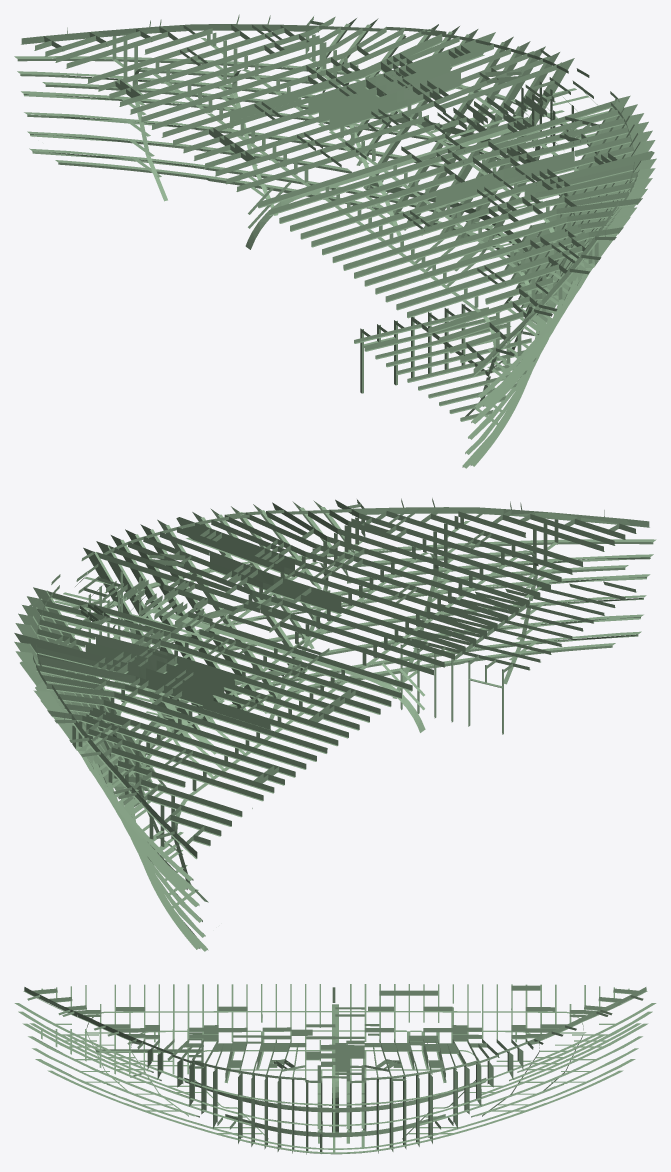
The model's file is BOATSWAINS_STORE.glb.
The picture shows the model from 3 angles, top to bottom: view 1: azimuth 30°, elevation 25°; view 2: azimuth 150°, elevation 25°; view 3: azimuth 270°, elevation 25°; orthographic projection. The views are drawn at different scales.
Parts seen in each view (by area): view 1: ST_UDxFPTSxDL07xWeb_050001-TW_810x19+200x25_NVA32_1993, ST_UDxFPTPxDL07xWeb_061001-TW_810x19+200x25_NVA_1993, ST_UDxFPTSxDL02xWeb_006005-IA_250x90x10x15_NVA32_1993, ST_UDxFPTPxDL30F1xWeb_216004-IA_300x90x13x17_NVA32_1993, ST_UDxFPTSxDL05xWeb_035001-TW_810x19+200x25_NVA32_1993, ST_UDxFPTSxDL04xWeb_043001-IA_250x90x10x15_NVA32_1993, ST_UDxFPTPxDL05xWeb_047001-TW_810x19+200x25_NVA36_2014, ST_UDxFPTSxDL03xWeb_038001-IA_250x90x10x15_NVA32_1993, ST_UDxFPTPxWeb_011001-IA_250x90x10x15_NVA32_1993, ST_UDxFPTSxWeb_132001-IA_250x90x10x15_NVA32_1993, ST_UDxFPTPxDL06xWeb_045001-TW_810x19+200x25_NVA36_2014, ST_UDxFPTPxDL04xWeb_049001-IA_250x90x10x15_NVA32_1993 (+12 smaller); view 2: ST_UDxFPTSxDL07xWeb_050001-TW_810x19+200x25_NVA32_1993, ST_UDxFPTPxDL07xWeb_061001-TW_810x19+200x25_NVA_1993, ST_UDxFPTSxDL02xWeb_006005-IA_250x90x10x15_NVA32_1993, ST_UDxFPTSxDL30F1xWeb_075004-IA_300x90x13x17_NVA32_1993, ST_UDxFPTPxDL08xWeb_060001-TW_350x19+150x25_NVA36_2014, ST_UDxFPTPxDL04xWeb_049001-IA_250x90x10x15_NVA32_1993, ST_UDxFPTPxDL03xWeb_062001-IA_250x90x10x15_NVA32_1993, ST_UDxFPTSxDL05xWeb_035001-TW_810x19+200x25_NVA32_1993, ST_UDxFPTPxDL05xWeb_047001-TW_810x19+200x25_NVA36_2014, ST_UDxFPTSxWeb_132001-IA_250x90x10x15_NVA32_1993, ST_UDxFPTPxWeb_011001-IA_250x90x10x15_NVA32_1993, ST_UDxFPTSxDL04xWeb_043001-IA_250x90x10x15_NVA32_1993 (+13 smaller); view 3: FP_HG60PxFPTS_001001-T_310x19_NVA_1993, FP_HG60PxFPTP_001001-T_310x19_NVA_1993, ST_OuterShellxFPTSxL60F2xWeb_002004-IA_307x100x10x12_NVA32_1, ST_OuterShellxFPTPxL60F2xWeb_002005-IA_307x100x10x12_NVA32_1, FP_HG57PxFPTS_001001-T_310x19_NVA_1993, ST_OuterShellxFPTSxL59xWeb_002004-IA_311x100x10x16_NVA32_199, FP_HG57PxFPTP_001001-T_310x19_NVA_1993, ST_OuterShellxFPTPxL59xWeb_002005-IA_311x100x10x16_NVA32_199, ST_OuterShellxFPTSxL56xWeb_009001-IA_358.5x125x11x13.5_NVA32, ST_OuterShellxFPTSxL55F1xWeb_002004-IA_362x125x10x17_NVA32_1, ST_OuterShellxFPTPxL56xWeb_008002-IA_358.5x125x11x13.5_NVA32, ST_OuterShellxFPTPxL55F1xWeb_001005-IA_362x125x10x17_NVA32_1.
Boxes of the visible parts, x1,y1,x2,y2 form: ST_UDxFPTSxDL07xWeb_050001-TW_810x19+200x25_NVA32_1993: (524, 151, 654, 201); ST_UDxFPTPxDL07xWeb_061001-TW_810x19+200x25_NVA_1993: (376, 32, 495, 86); ST_UDxFPTSxDL02xWeb_006005-IA_250x90x10x15_NVA32_1993: (448, 100, 616, 158); ST_UDxFPTPxDL30F1xWeb_216004-IA_300x90x13x17_NVA32_1993: (21, 26, 167, 44); ST_UDxFPTSxDL05xWeb_035001-TW_810x19+200x25_NVA32_1993: (503, 151, 574, 186); ST_UDxFPTSxDL04xWeb_043001-IA_250x90x10x15_NVA32_1993: (492, 127, 627, 166); ST_UDxFPTPxDL05xWeb_047001-TW_810x19+200x25_NVA36_2014: (397, 67, 460, 109); ST_UDxFPTSxDL03xWeb_038001-IA_250x90x10x15_NVA32_1993: (482, 118, 624, 158); ST_UDxFPTPxWeb_011001-IA_250x90x10x15_NVA32_1993: (440, 63, 561, 108); ST_UDxFPTSxWeb_132001-IA_250x90x10x15_NVA32_1993: (494, 108, 623, 148); ST_UDxFPTPxDL06xWeb_045001-TW_810x19+200x25_NVA36_2014: (386, 60, 450, 91); ST_UDxFPTPxDL04xWeb_049001-IA_250x90x10x15_NVA32_1993: (407, 51, 532, 104); ST_UDxFPTSxDL07xWeb_050001-TW_810x19+200x25_NVA32_1993: (176, 517, 294, 576); ST_UDxFPTPxDL07xWeb_061001-TW_810x19+200x25_NVA_1993: (14, 633, 145, 679); ST_UDxFPTSxDL02xWeb_006005-IA_250x90x10x15_NVA32_1993: (96, 552, 264, 609); ST_UDxFPTSxDL30F1xWeb_075004-IA_300x90x13x17_NVA32_1993: (503, 509, 649, 527); ST_UDxFPTPxDL08xWeb_060001-TW_350x19+150x25_NVA36_2014: (38, 656, 135, 683); ST_UDxFPTPxDL04xWeb_049001-IA_250x90x10x15_NVA32_1993: (36, 608, 177, 649); ST_UDxFPTPxDL03xWeb_062001-IA_250x90x10x15_NVA32_1993: (41, 600, 188, 641); ST_UDxFPTSxDL05xWeb_035001-TW_810x19+200x25_NVA32_1993: (209, 551, 273, 592); ST_UDxFPTPxDL05xWeb_047001-TW_810x19+200x25_NVA36_2014: (96, 634, 167, 663); ST_UDxFPTSxWeb_132001-IA_250x90x10x15_NVA32_1993: (109, 546, 230, 591); ST_UDxFPTPxWeb_011001-IA_250x90x10x15_NVA32_1993: (47, 591, 176, 631); ST_UDxFPTSxDL04xWeb_043001-IA_250x90x10x15_NVA32_1993: (143, 537, 262, 587); FP_HG60PxFPTS_001001-T_310x19_NVA_1993: (184, 1077, 335, 1112); FP_HG60PxFPTP_001001-T_310x19_NVA_1993: (345, 1078, 486, 1112); ST_OuterShellxFPTSxL60F2xWeb_002004-IA_307x100x10x12_NVA32_1: (125, 1058, 335, 1105); ST_OuterShellxFPTPxL60F2xWeb_002005-IA_307x100x10x12_NVA32_1: (345, 1058, 545, 1105); FP_HG57PxFPTS_001001-T_310x19_NVA_1993: (225, 1114, 335, 1137); ST_OuterShellxFPTSxL59xWeb_002004-IA_311x100x10x16_NVA32_199: (149, 1084, 332, 1126); FP_HG57PxFPTP_001001-T_310x19_NVA_1993: (345, 1114, 445, 1136); ST_OuterShellxFPTPxL59xWeb_002005-IA_311x100x10x16_NVA32_199: (345, 1084, 522, 1125); ST_OuterShellxFPTSxL56xWeb_009001-IA_358.5x125x11x13.5_NVA32: (185, 1119, 335, 1149); ST_OuterShellxFPTSxL55F1xWeb_002004-IA_362x125x10x17_NVA32_1: (185, 1125, 335, 1153); ST_OuterShellxFPTPxL56xWeb_008002-IA_358.5x125x11x13.5_NVA32: (345, 1119, 485, 1149); ST_OuterShellxFPTPxL55F1xWeb_001005-IA_362x125x10x17_NVA32_1: (345, 1125, 485, 1153).
Bounding box in the file's own units: 17.67 × 7.38 × 39.53.
